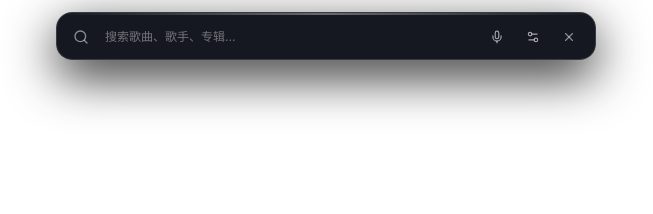
SearchPanel › shows visible feedback when voice search is unsupported
What coordinates should you click on to do the following:
click the button named "语音搜索"
I would click on:
 (497, 37)
Its box is x1=483 y1=23 x2=511 y2=51.
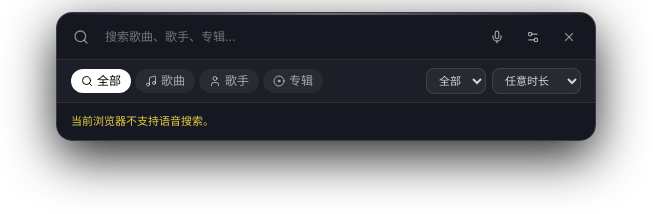
Expected: the text "当前浏览器不支持语音搜索。" is shown, x1=71 y1=114 x2=214 y2=128
